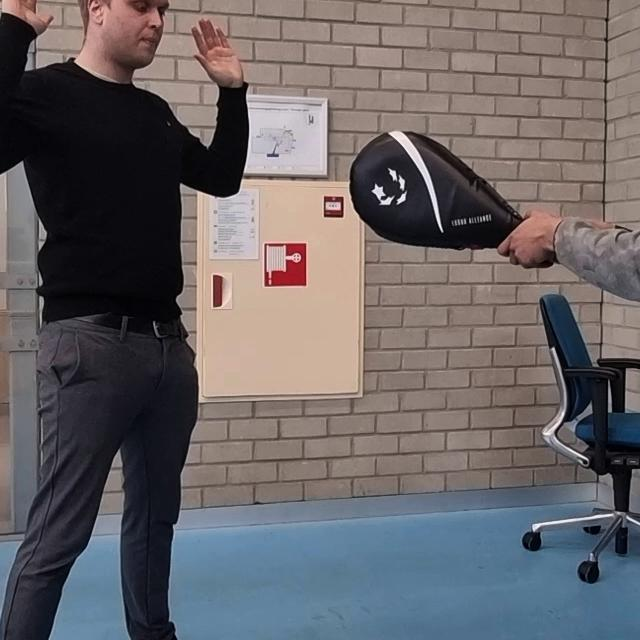paddle: (349, 129, 529, 250)
